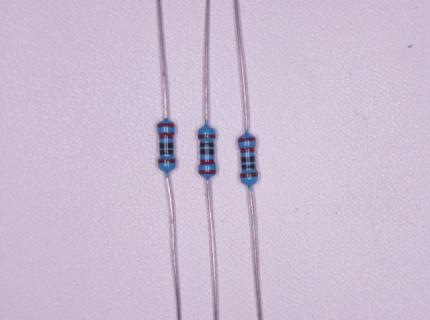Black band: (159, 143, 174, 149), (241, 156, 255, 162), (200, 149, 214, 155), (241, 165, 255, 170), (160, 150, 173, 155), (200, 143, 214, 147)
Brown band: (240, 172, 259, 179), (198, 134, 215, 139), (158, 159, 174, 164)
Red band: (159, 132, 173, 139), (200, 159, 215, 165), (241, 147, 255, 153), (238, 138, 256, 142), (157, 123, 174, 127), (199, 170, 216, 174)
